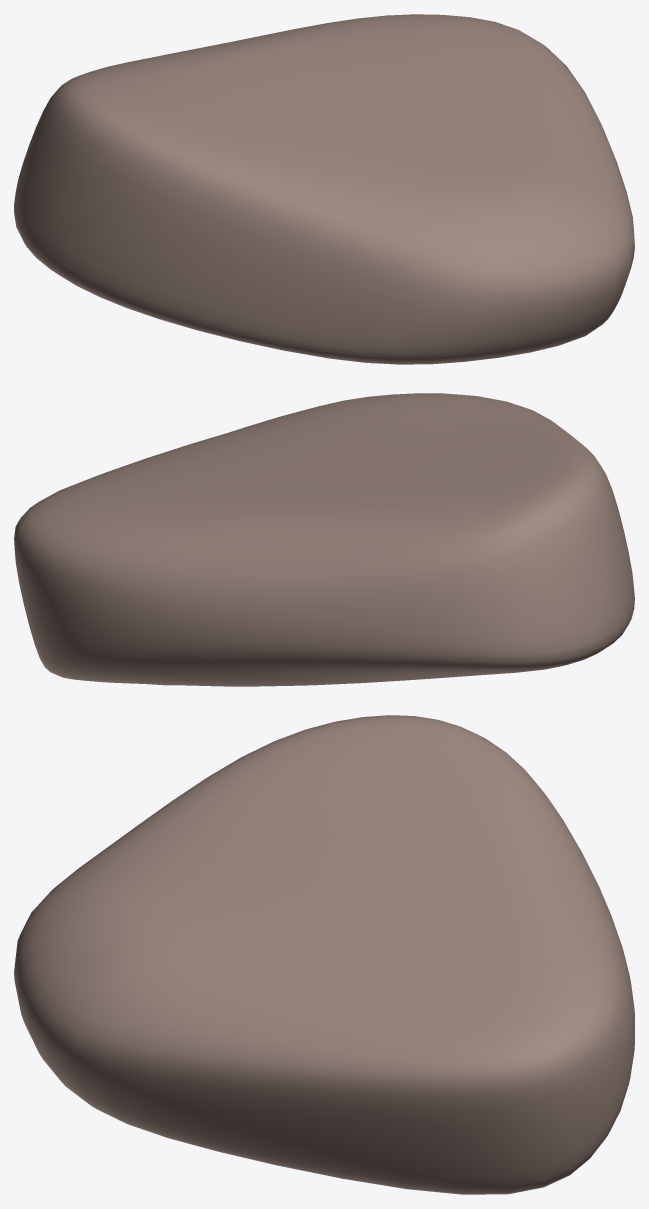
Rendered from Piedra1E.fbx.
3 views of the same model, one above another, from view 1: azimuth 30°, elevation 25°; view 2: azimuth 150°, elevation 25°; view 3: azimuth 270°, elevation 25° (orthographic). The views are drawn at different scales.
Visible parts, largest first — view 1: Circle.004; view 2: Circle.004; view 3: Circle.004.
Boxes of the visible parts, x1=… form: Circle.004: x1=14, y1=14, x2=634, y2=364; Circle.004: x1=14, y1=393, x2=634, y2=686; Circle.004: x1=14, y1=715, x2=634, y2=1194.
Size of the model in its own units: 467 by 191 by 433.
